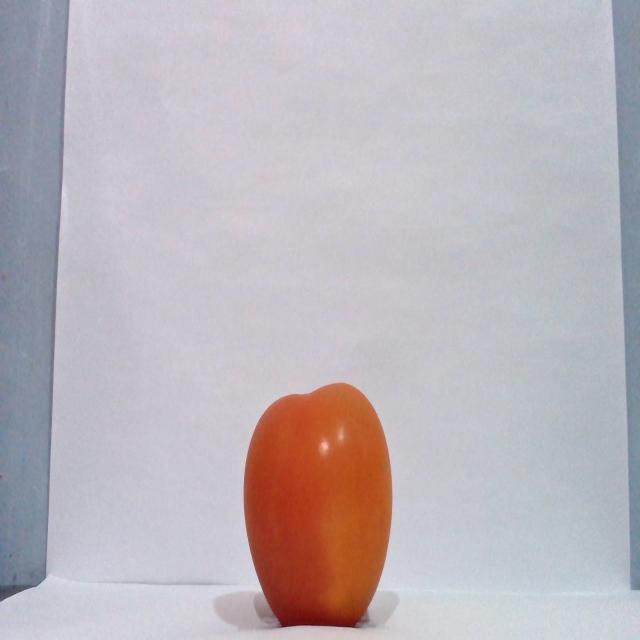Red: (241, 380, 393, 627)
